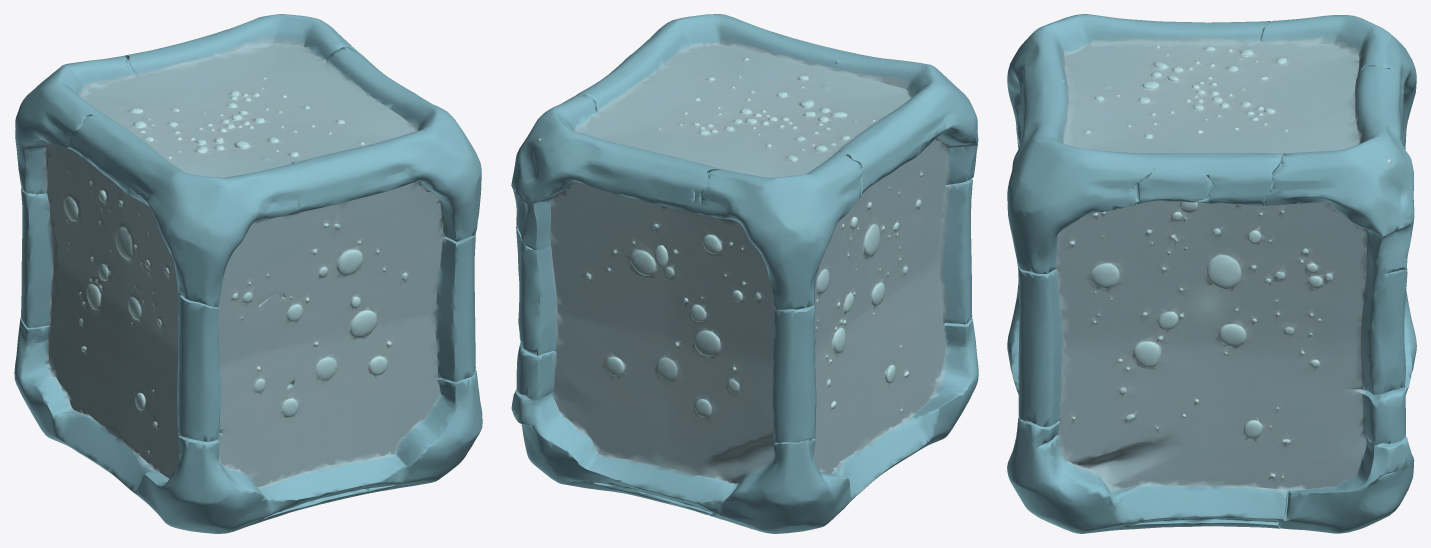
File: cube_blue.glb
3 renders of one model, left to right at view 1: azimuth 30°, elevation 25°; view 2: azimuth 150°, elevation 25°; view 3: azimuth 270°, elevation 25°, orthographic. The views are drawn at different scales.
Parts seen in each view (by area): view 1: tripo_node_96120225-50e7-4b11-a441-50460e044aa4; view 2: tripo_node_96120225-50e7-4b11-a441-50460e044aa4; view 3: tripo_node_96120225-50e7-4b11-a441-50460e044aa4.
Part boxes in pixels (x1,y1,x2,y2): tripo_node_96120225-50e7-4b11-a441-50460e044aa4: (14,14,482,533); tripo_node_96120225-50e7-4b11-a441-50460e044aa4: (511,14,978,533); tripo_node_96120225-50e7-4b11-a441-50460e044aa4: (1007,14,1416,533).
Size of the model in its own units: 0.9185 by 1 by 0.9707.
Materials: 1 (1 with a texture image).
